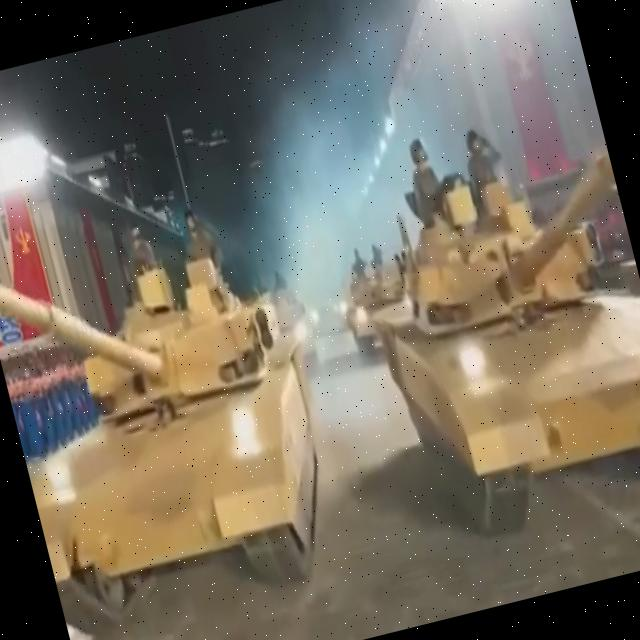north tank: (0, 195, 358, 640), (314, 95, 640, 563), (304, 205, 424, 368)
